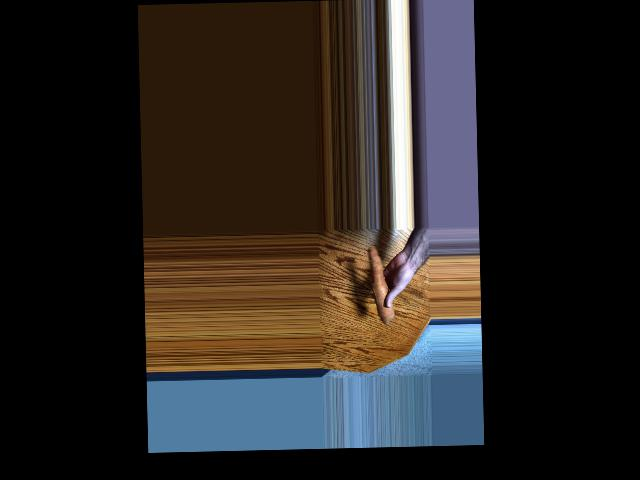sweet_potato: (371, 246, 388, 323)
